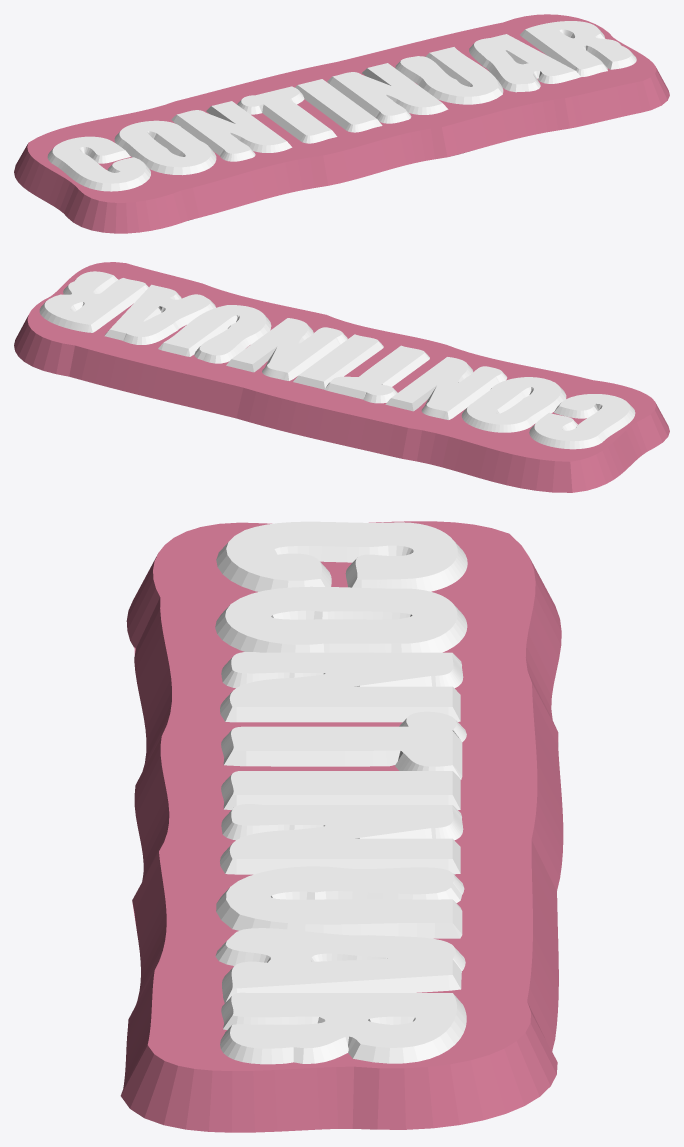
Rendered from continue.fbx.
3 views of the same model, one above another, from view 1: azimuth 30°, elevation 25°; view 2: azimuth 150°, elevation 25°; view 3: azimuth 270°, elevation 25° (orthographic). The views are drawn at different scales.
Visible parts, largest first — view 1: path3207; view 2: path3207; view 3: path3207.
Part boxes in pixels (x1,y1,x2,y2): path3207: [14, 14, 669, 233]; path3207: [14, 262, 669, 492]; path3207: [120, 521, 563, 1132].
Bounding box in the file's own units: 1205 × 62.12 × 394.
